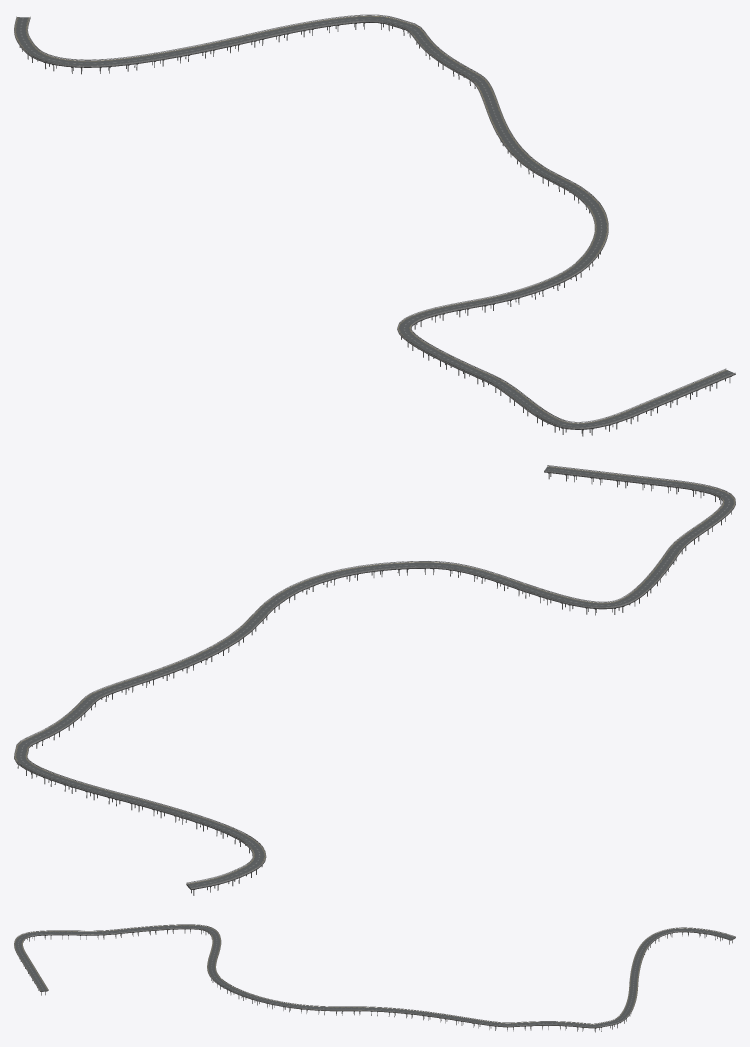
Rendered from MB_Highway.fbx.
3 renders of one model, top to bottom at view 1: azimuth 30°, elevation 25°; view 2: azimuth 150°, elevation 25°; view 3: azimuth 270°, elevation 25°, orthographic. The views are drawn at different scales.
Parts seen in each view (by area): view 1: MB_Highway; view 2: MB_Highway; view 3: MB_Highway.
Boxes of the visible parts, x1,y1,x2,y2 form: MB_Highway: (14, 14, 735, 436); MB_Highway: (14, 465, 735, 895); MB_Highway: (14, 924, 735, 1032).
Bounding box in the file's own units: 27619 × 1382 × 81830.
